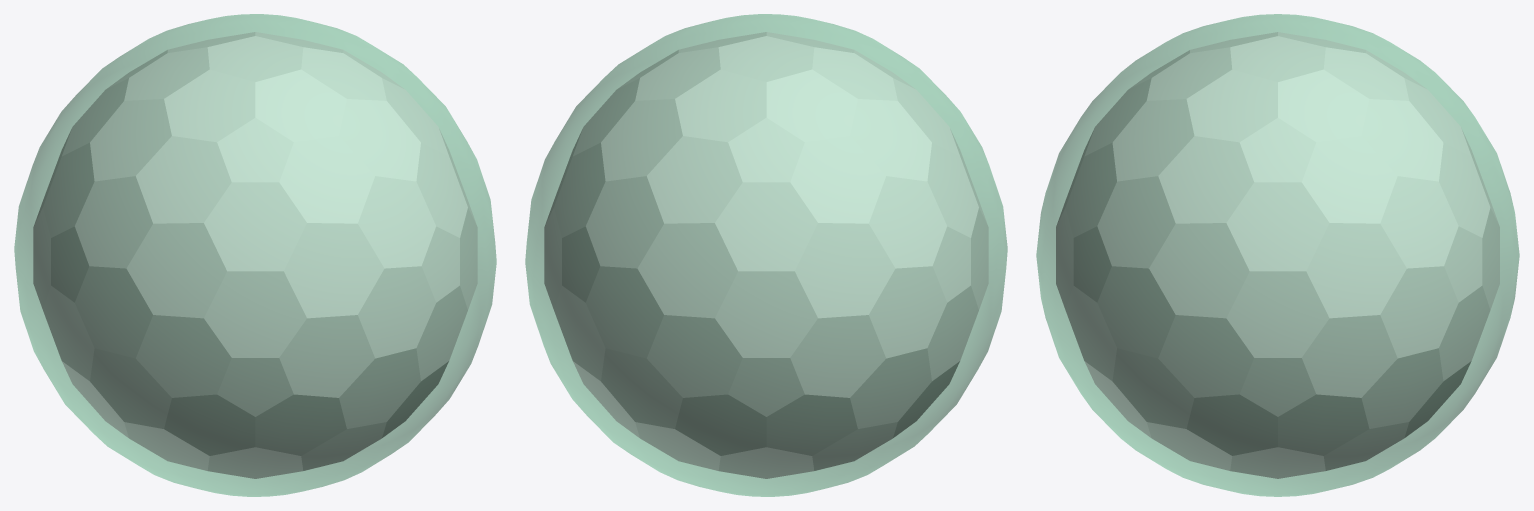
The model's file is planet_2.glb.
3 renders of one model, left to right at view 1: azimuth 30°, elevation 25°; view 2: azimuth 150°, elevation 25°; view 3: azimuth 270°, elevation 25°, orthographic.
Parts seen in each view (by area): view 1: 球体, GD_mesh.001; view 2: 球体, GD_mesh.001; view 3: 球体, GD_mesh.001.
Boxes of the visible parts, x1,y1,x2,y2 form: 球体: (14,14,496,496); GD_mesh.001: (33,32,477,478); 球体: (525,14,1007,496); GD_mesh.001: (544,32,988,478); 球体: (1036,14,1519,496); GD_mesh.001: (1056,32,1499,478).
Bounding box in the file's own units: 6.05 × 6.05 × 6.05.
